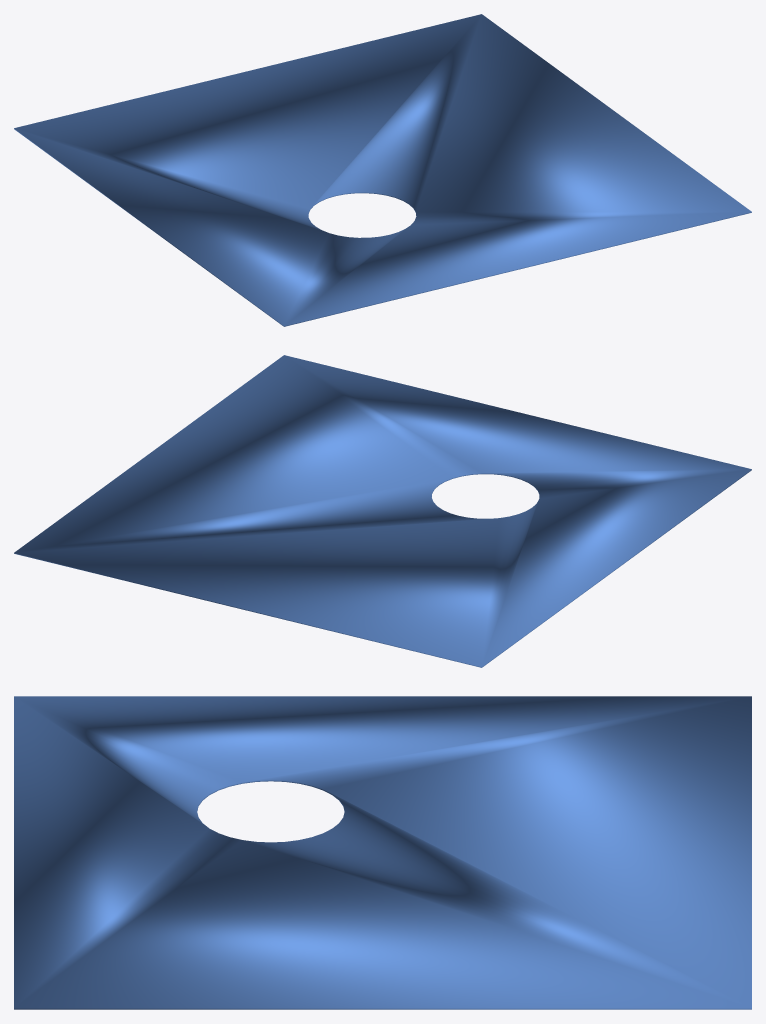
File: cover.fbx
The picture shows the model from 3 angles, top to bottom: view 1: azimuth 30°, elevation 25°; view 2: azimuth 150°, elevation 25°; view 3: azimuth 270°, elevation 25°; orthographic projection. The views are drawn at different scales.
Visible parts, largest first — view 1: Plane; view 2: Plane; view 3: Plane.
Boxes of the visible parts, x1,y1,x2,y2 form: Plane: (14, 14, 751, 326); Plane: (14, 355, 751, 667); Plane: (14, 696, 751, 1009).
Size of the model in its own units: 0.05 by 0.0001 by 0.05.
